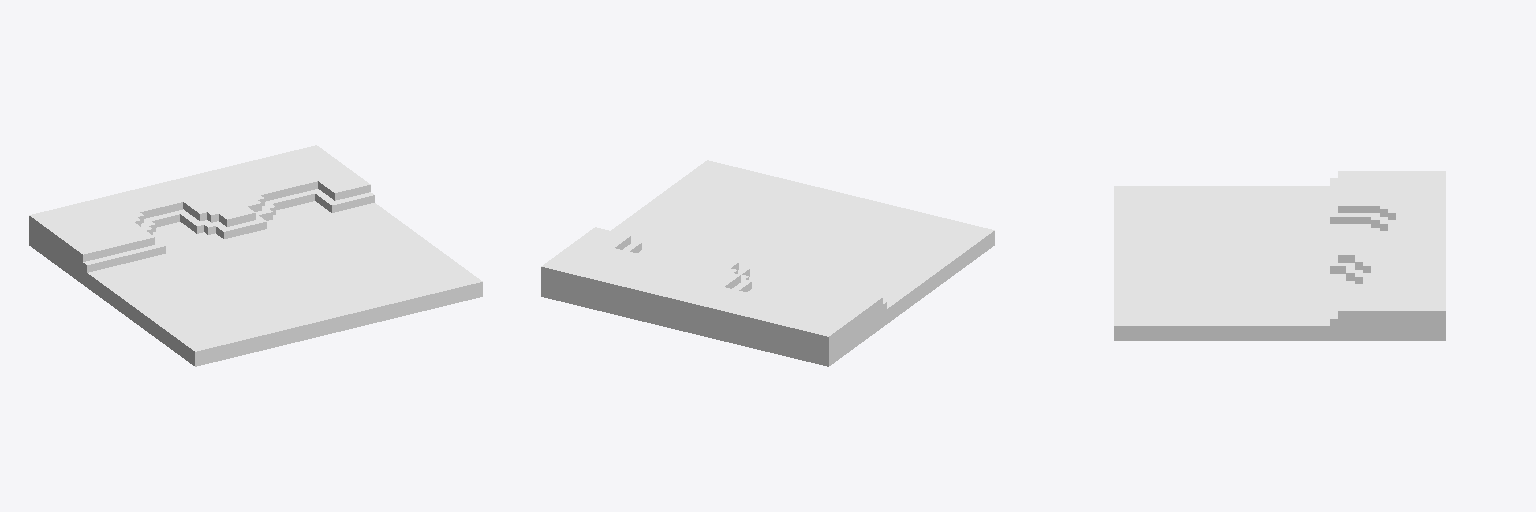
The model's file is river3-5.obj.
3 renders of one model, left to right at view 1: azimuth 30°, elevation 25°; view 2: azimuth 150°, elevation 25°; view 3: azimuth 270°, elevation 25°, orthographic.
Visible parts, largest first — view 1: object 1; view 2: object 1; view 3: object 1.
Boxes of the visible parts, x1,y1,x2,y2 form: object 1: [29, 145, 482, 366]; object 1: [541, 160, 994, 366]; object 1: [1114, 171, 1445, 340].
Bounding box in the file's own units: 4 × 0.4 × 4.